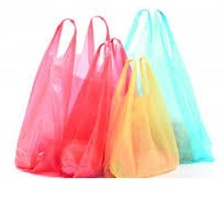plastic_bag: (10, 9, 113, 181), (120, 4, 217, 169), (56, 31, 139, 180), (104, 52, 184, 183)
